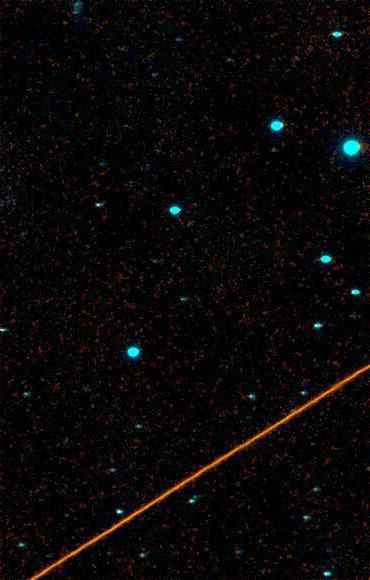star: (235, 367, 265, 397)
